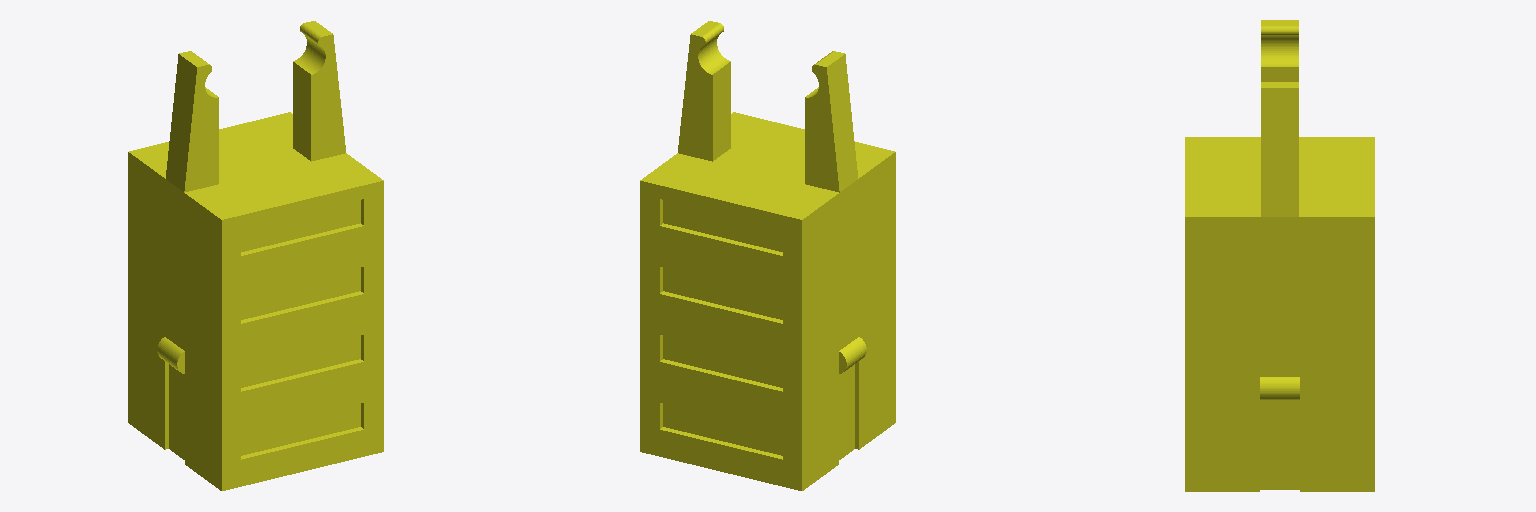
The robot description file, URDF, robot "cube.urdf":
<?xml version="1.0" ?>
<robot name="cube.urdf">
    <link name="legobrick">
        <contact>
            <lateral_friction value="1.0"/>
            <rolling_friction value="0.0"/>
            <contact_cfm value="0.0"/>
            <contact_erp value="1.0"/>
        </contact>
        <inertial>
            <origin rpy="0 0 0" xyz="0.0 0.0 0.0"/>
            <mass value="0.1"/>
            <inertia ixx="1" ixy="0" ixz="0" iyy="1" iyz="0" izz="1"/>
        </inertial>
        <visual>
            <origin rpy="1.570796 0 0" xyz="-0.001152925257731959 0.014222730670103094 -0.006989078608247398"/>
            <geometry>
                <mesh filename="Building_Snap_Middle.obj" scale="0.001 0.001 0.001"/>
            </geometry>
            <material name="yellow">
                <color rgba="0.8510 0.8510 0.1804 1"/>
            </material>
        </visual>
        <collision>
            <origin rpy="1.570796 0 0" xyz="-0.001152925257731959 0.014222730670103094 -0.006989078608247398"/>
            <geometry>
                <mesh filename="Building_Snap_Middle.obj" scale="0.001 0.001 0.001"/>
            </geometry>
        </collision>
    </link>
</robot>

--- Facts derived from the render (not from the file) ---
The picture shows the robot from 3 angles, left to right: view 1: azimuth 30°, elevation 25°; view 2: azimuth 150°, elevation 25°; view 3: azimuth 270°, elevation 25°; orthographic projection.
Model cube.urdf with 1 links and 0 joints (none), rooted at legobrick, posed all joints at 0.
Visible links, largest first — view 1: legobrick; view 2: legobrick; view 3: legobrick.
Link boxes in pixels (<box>): legobrick: <box>128,21,383,490</box>; legobrick: <box>640,21,895,490</box>; legobrick: <box>1185,20,1374,491</box>.
Size in the robot's own frame: 0.0274 by 0.025 by 0.058 metres.
Meshes: 1 distinct files referenced, 1 mesh visuals loaded (1 OBJ).